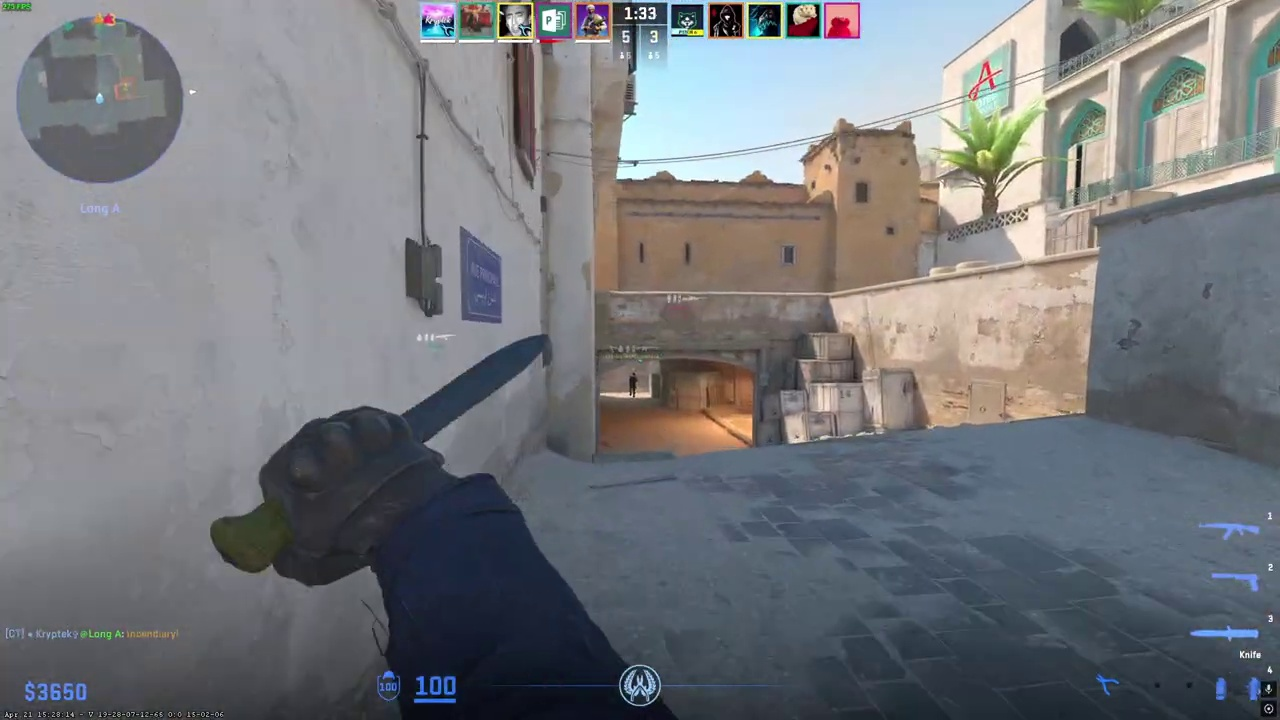CT: (629, 372, 638, 397)
